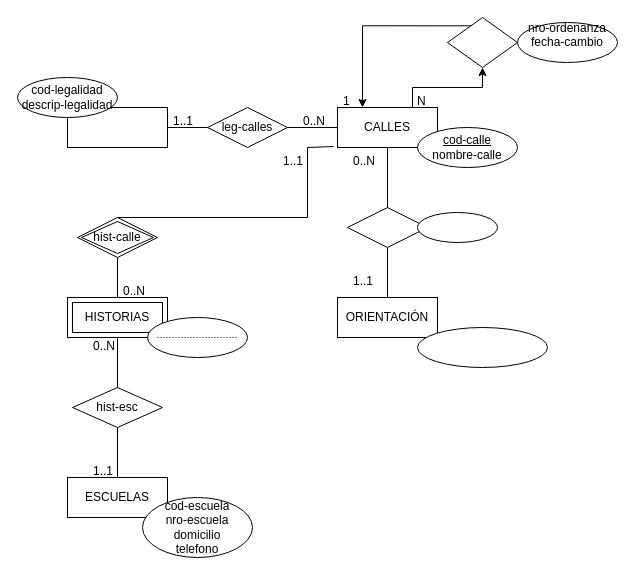
The diagram is 635 pixels wide and 575 high, and some of its shapes have lost their labels. Here are the shapes that lost their labels. From the top down, the centre of each, then its label:
At point (482, 42): "reemplaza".
At point (117, 127): "LEGALIDADES".
At point (387, 227): "calles-orientacion".
At point (457, 227): "sentido".
At point (197, 337): "nro-historia descrip-historia".
At point (482, 347): "cod-orientacion descrip-orientacion".
